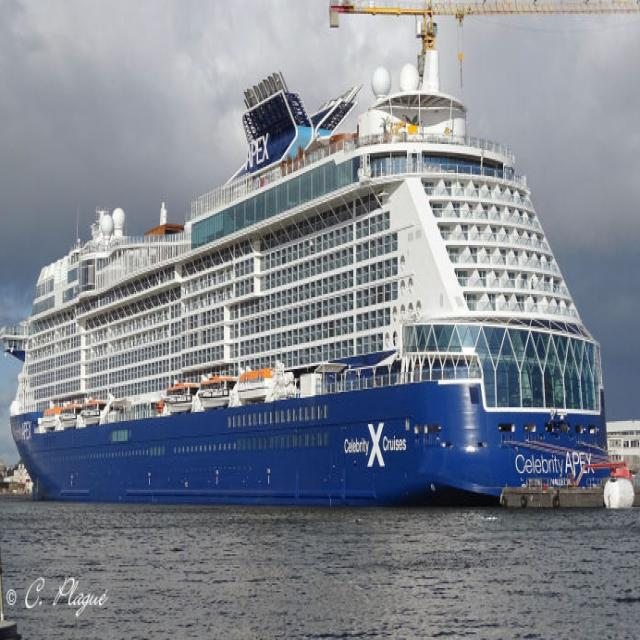cruises: (1, 46, 614, 519)
